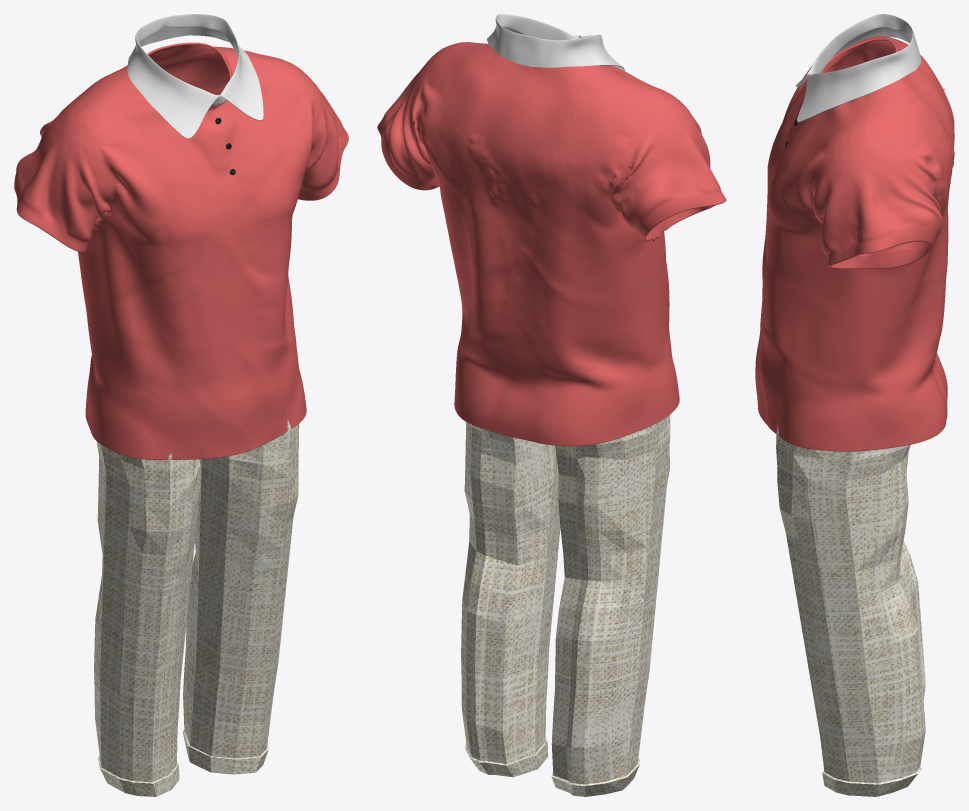
The model's file is maleDress2.glb.
3 renders of one model, left to right at view 1: azimuth 30°, elevation 25°; view 2: azimuth 150°, elevation 25°; view 3: azimuth 270°, elevation 25°, orthographic. The views are drawn at different scales.
Visible parts, largest first — view 1: object 3, pants_03 - Default_0, Object_0; view 2: object 3, pants_03 - Default_0, Object_0; view 3: object 3, pants_03 - Default_0, Object_0.
Part boxes in pixels (x1,y1,x2,y2): object 3: (14, 42, 348, 459); pants_03 - Default_0: (94, 420, 299, 796); Object_0: (127, 14, 263, 138); object 3: (377, 42, 726, 446); pants_03 - Default_0: (461, 376, 670, 796); Object_0: (487, 14, 624, 70); object 3: (755, 36, 954, 451); pants_03 - Default_0: (776, 424, 925, 796); Object_0: (795, 14, 920, 122).
Bounding box in the file's own units: 0.77 × 1.63 × 0.403.
7 materials, 2 textured.
